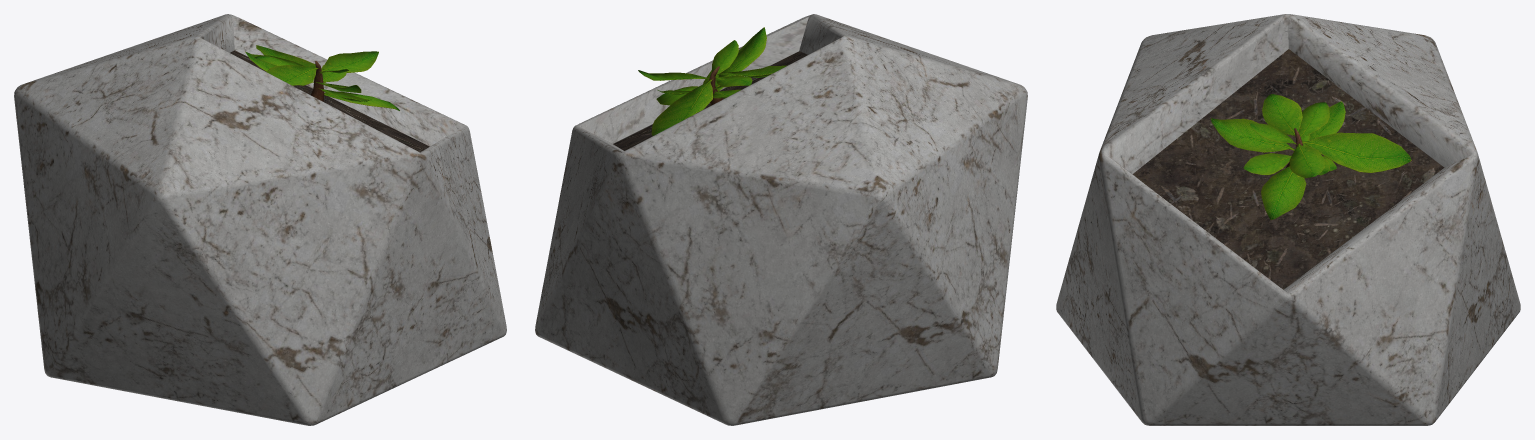
3 views of the same model, side by side, from view 1: azimuth 30°, elevation 25°; view 2: azimuth 150°, elevation 25°; view 3: azimuth 270°, elevation 25° (orthographic).
Parts seen in each view (by area): view 1: Pot, Leaf, Ground; view 2: Pot, Leaf, Ground; view 3: Pot, Ground, Leaf.
Boxes of the visible parts, x1,y1,x2,y2 form: Pot: (14, 14, 506, 425); Leaf: (245, 45, 399, 110); Ground: (230, 50, 429, 152); Pot: (535, 14, 1027, 425); Leaf: (638, 27, 786, 135); Ground: (613, 51, 807, 150); Pot: (1056, 14, 1520, 425); Ground: (1133, 49, 1444, 289); Leaf: (1211, 94, 1411, 219).
Bounding box in the file's own units: 174 × 120 × 169.
4 materials, 4 textured.
